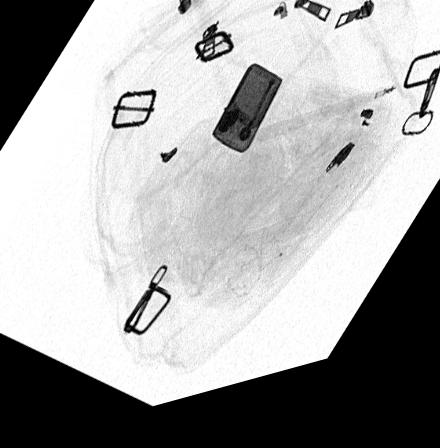Lighter: (211, 75, 283, 167)
